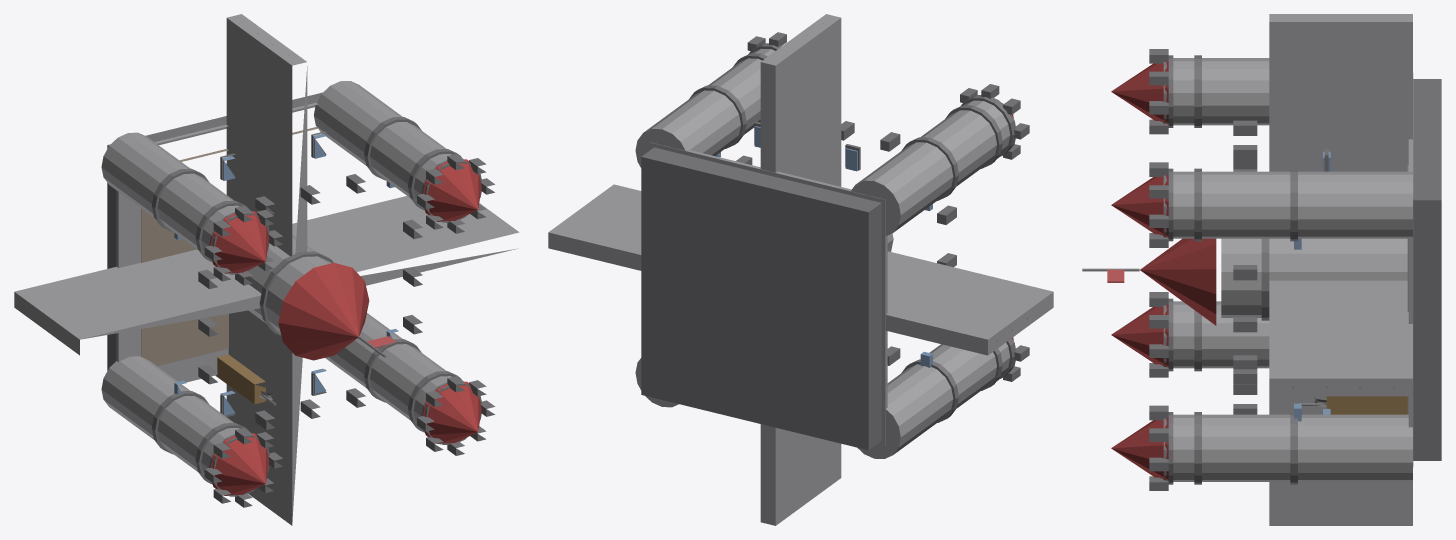
File: castle.glb
3 renders of one model, left to right at view 1: azimuth 30°, elevation 25°; view 2: azimuth 150°, elevation 25°; view 3: azimuth 270°, elevation 25°, orthographic. The views are drawn at different scales.
Visible parts, largest first — view 1: geometry_0; view 2: geometry_0; view 3: geometry_0.
Part boxes in pixels (x1,y1,x2,y2): geometry_0: (14,14,519,525); geometry_0: (548,14,1053,525); geometry_0: (1082,14,1441,525).
Size of the model in its own units: 5.8 by 5.8 by 3.75.
